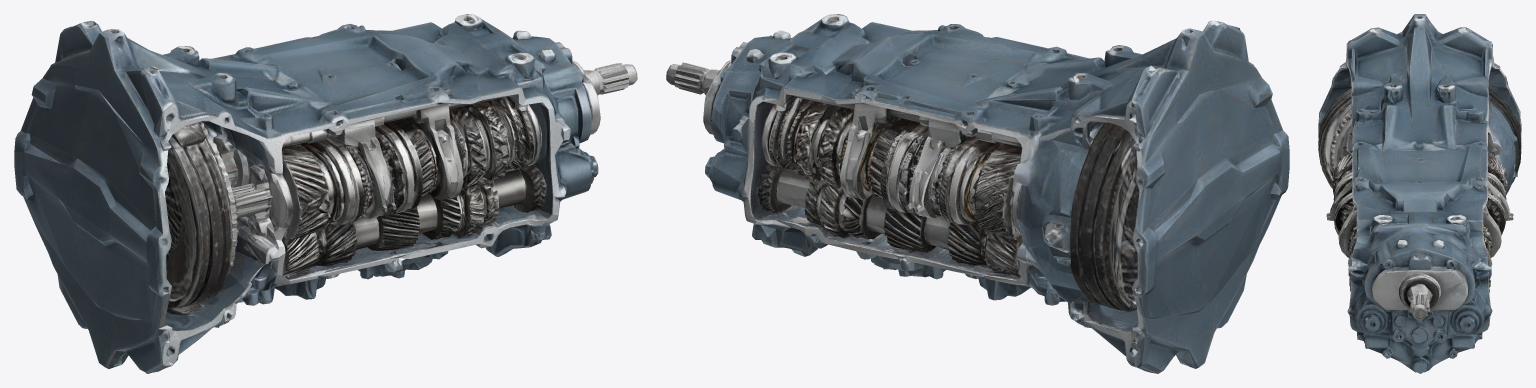
File: gearbox-web.glb
3 renders of one model, left to right at view 1: azimuth 30°, elevation 25°; view 2: azimuth 150°, elevation 25°; view 3: azimuth 270°, elevation 25°, orthographic. The views are drawn at different scales.
Parts seen in each view (by area): view 1: Mesh_0; view 2: Mesh_0; view 3: Mesh_0.
Part boxes in pixels (box(x1,y1,x2,y2)): Mesh_0: box(14, 14, 637, 373); Mesh_0: box(666, 14, 1289, 373); Mesh_0: box(1318, 14, 1521, 373).
Size of the model in its own units: 1.9 by 1.1 by 0.8645.
1 material, 1 textured.
